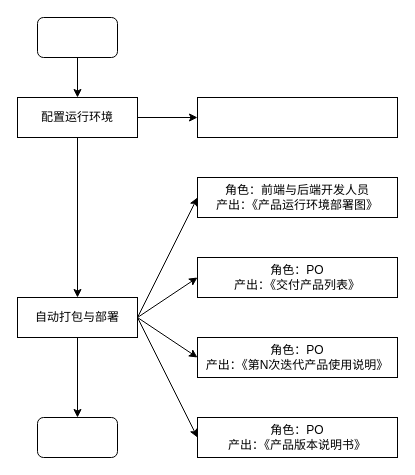
This 415x475 diagram has some shape labels left out. Each missing label, with the centre of its shape:
"开始" belongs at point 77,37.
"结束" belongs at point 77,437.
"角色：前端与后端开发人员 产出：《产品运行环境配置文档》" belongs at point 297,117.
